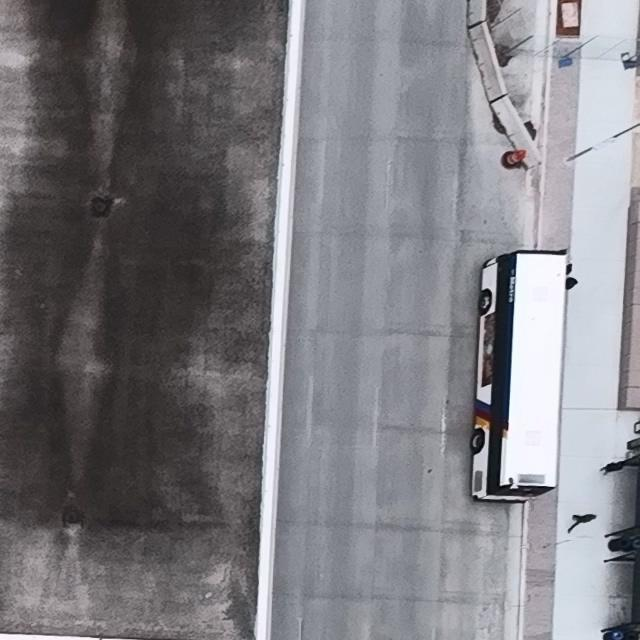car: (470, 249, 566, 502)
